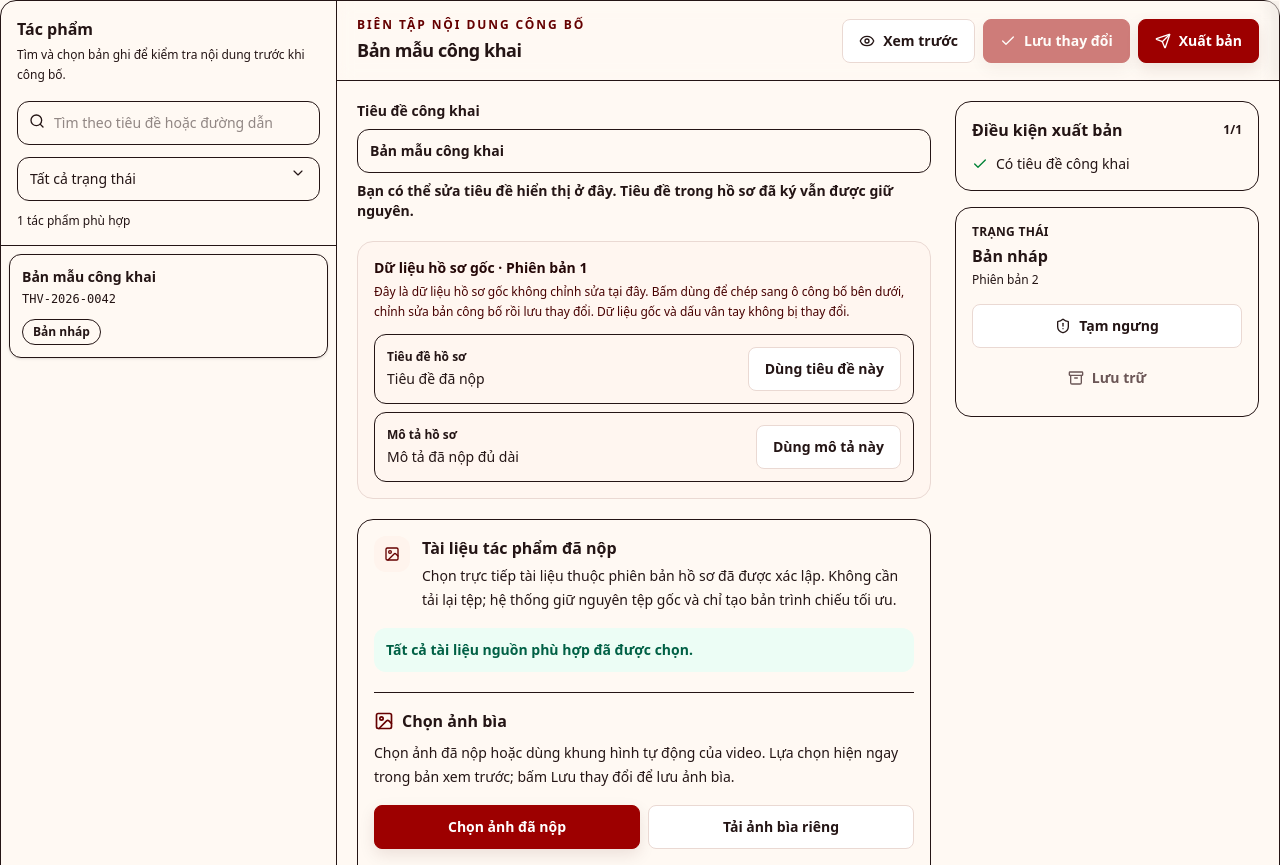
Test: PublicWorkEditor › allows a ready video frame to be selected as the public cover
Click the button "Bản mẫu công khai THV-2026-0042 Bản nháp".
click(89, 276)  # box [9,254,328,358]
(page scrolled)
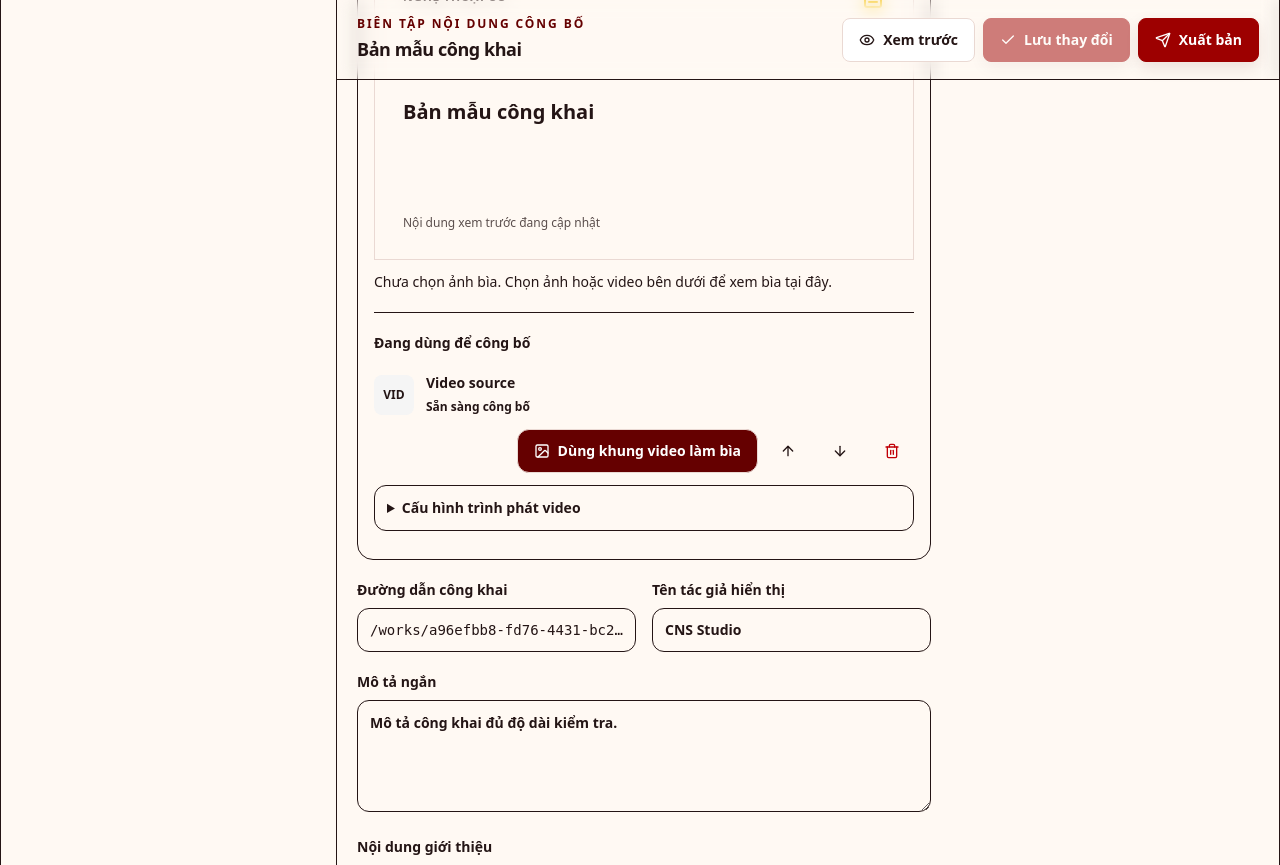
Click the button "Dùng khung video làm bìa".
click(637, 451)  # box [517,429,758,473]
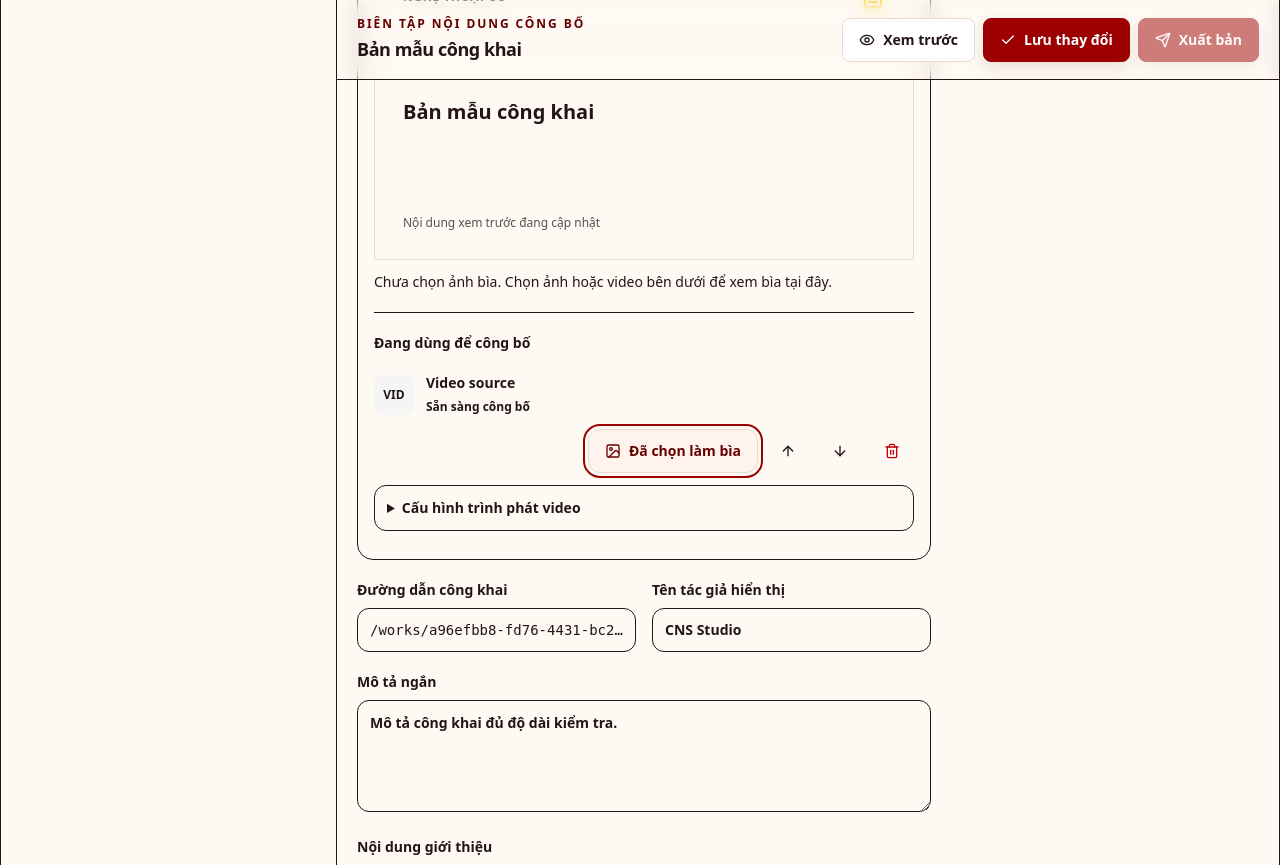
Result: the button "Đã chọn làm bìa" is shown at [588,429,758,473]
